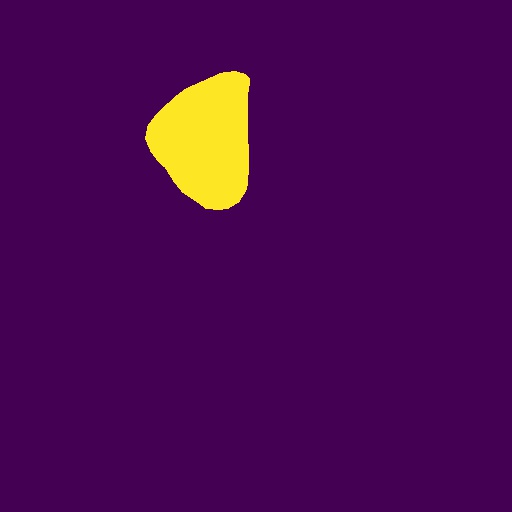Gliomia_tumour: (145, 71, 250, 210)
